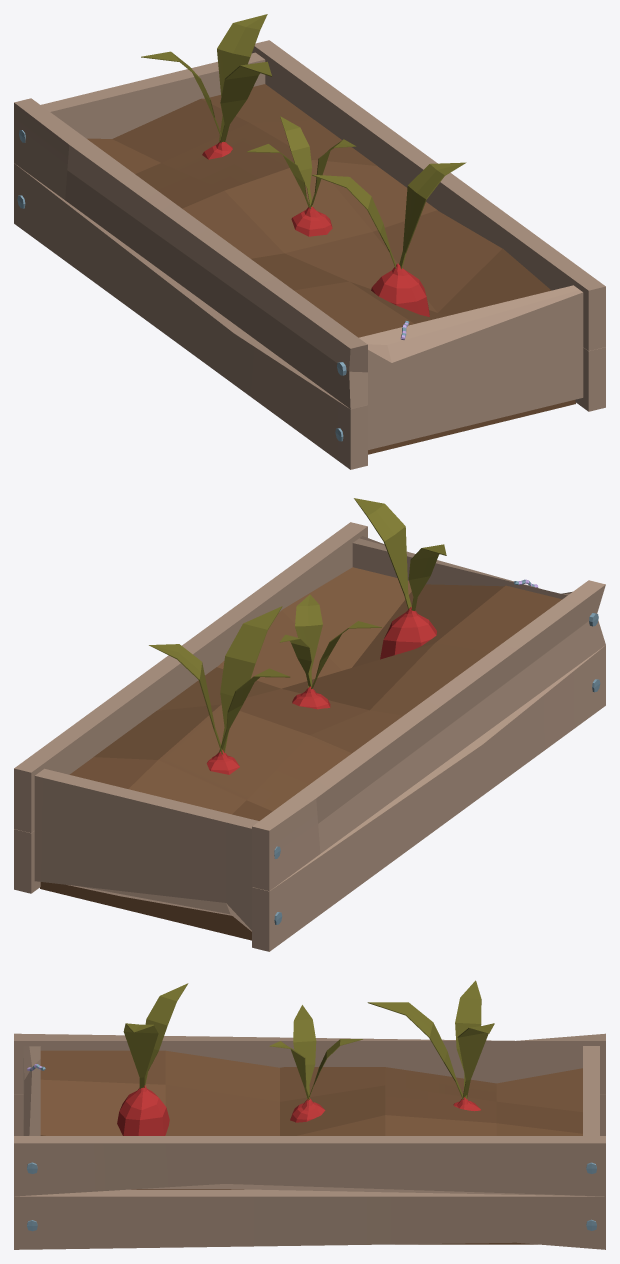
The model's file is Garden_2.glb.
The picture shows the model from 3 angles, top to bottom: view 1: azimuth 30°, elevation 25°; view 2: azimuth 150°, elevation 25°; view 3: azimuth 270°, elevation 25°; orthographic projection. The views are drawn at different scales.
Visible parts, largest first — view 1: Garden_2; view 2: Garden_2; view 3: Garden_2.
Boxes of the visible parts, box(x1,y1,x2,y2) form: Garden_2: box(14, 14, 605, 469); Garden_2: box(14, 498, 605, 951); Garden_2: box(14, 980, 605, 1249).
Bounding box in the file's own units: 0.9111 × 0.7336 × 2.04.
Materials: 1 (1 with a texture image).
